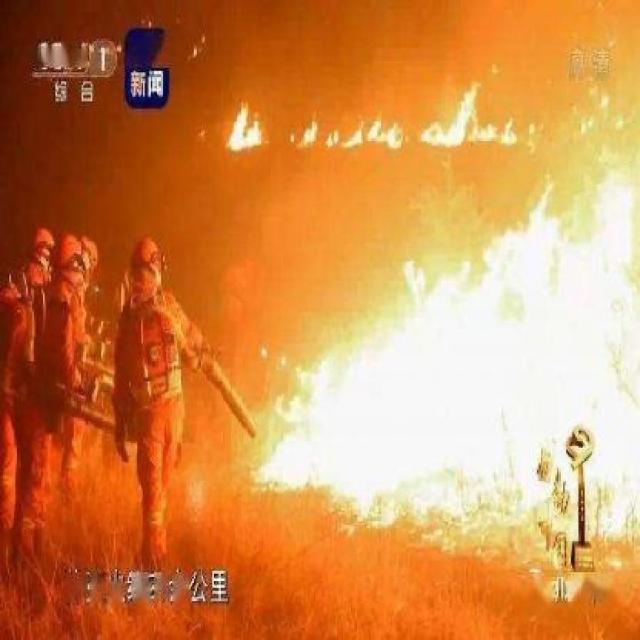Fire: (225, 0, 638, 598)
